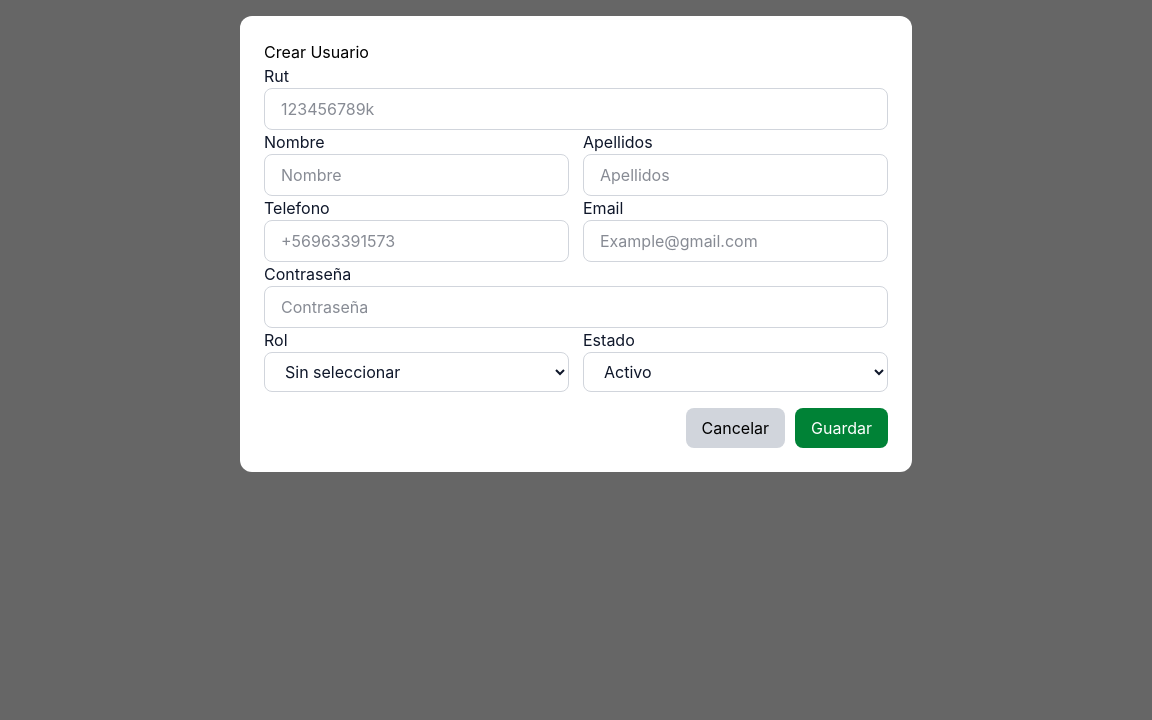
Test case: FormularioUsuario › Validaciones del Formulario › muestra mensajes de campos obligatorios al intentar guardar con el formulario vacio
The width and height of the screenshot is (1152, 720).
Click the button "Guardar". click: (842, 428)
box: [795, 408, 888, 448]
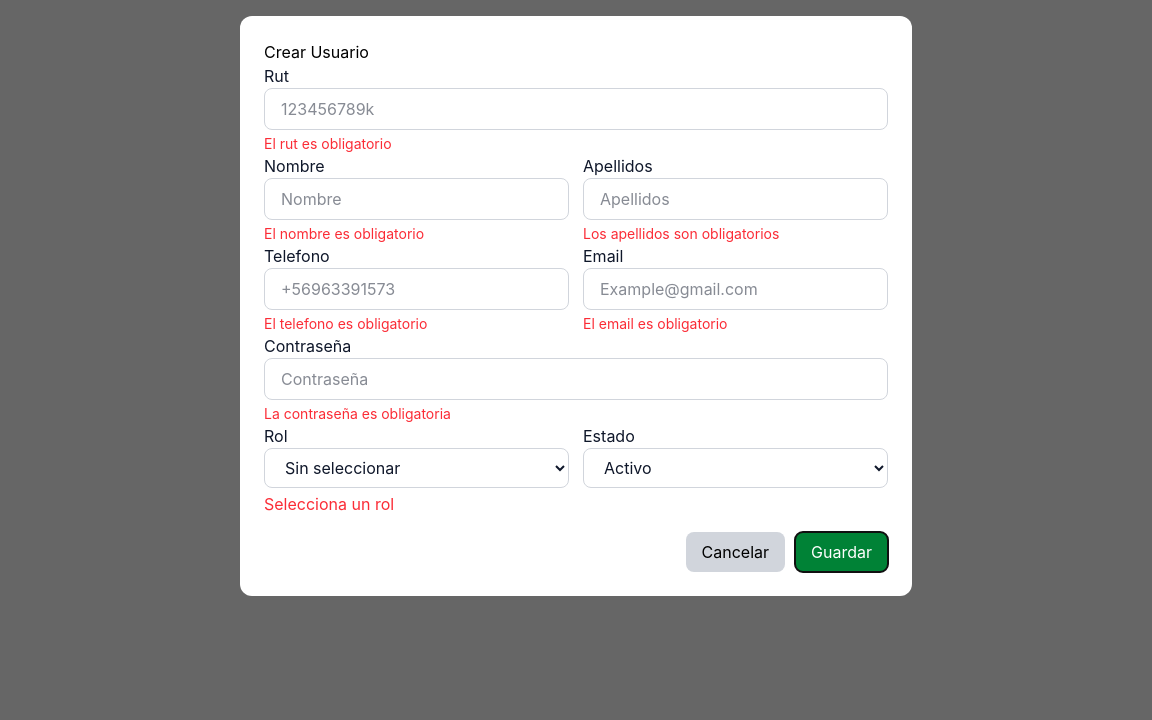
Check: the text "El rut es obligatorio" is shown, box [264, 135, 392, 152]
Check: the text "El nombre es obligatorio" is shown, box [264, 225, 424, 242]
Check: the text "Los apellidos son obligatorios" is shown, box [583, 225, 779, 242]
